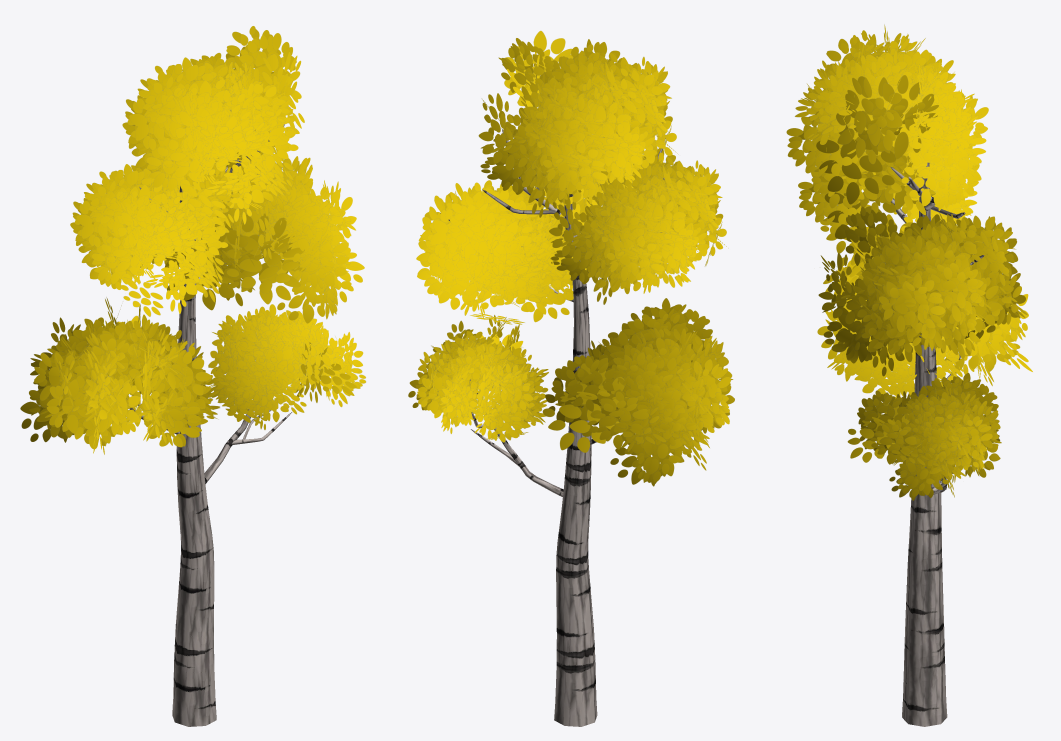
The model's file is birch-tree-1.glb.
3 renders of one model, left to right at view 1: azimuth 30°, elevation 25°; view 2: azimuth 150°, elevation 25°; view 3: azimuth 270°, elevation 25°, orthographic. The views are drawn at different scales.
Parts seen in each view (by area): view 1: BirchTree_1; view 2: BirchTree_1; view 3: BirchTree_1.
Boxes of the visible parts, bbox=[...] form: BirchTree_1: bbox=[20, 26, 365, 726]; BirchTree_1: bbox=[408, 30, 734, 726]; BirchTree_1: bbox=[786, 24, 1032, 726].
Size of the model in its own units: 2.71 by 5.45 by 1.94.
Materials: 2 (2 with a texture image).
